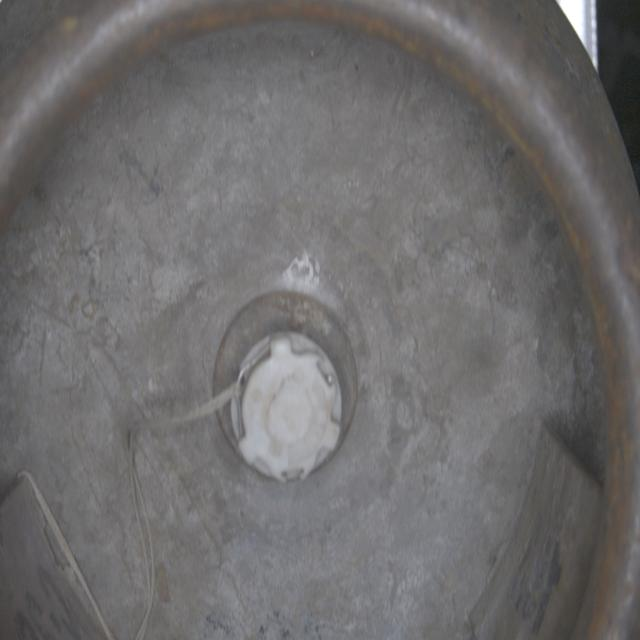Cap: (231, 333, 349, 484)
